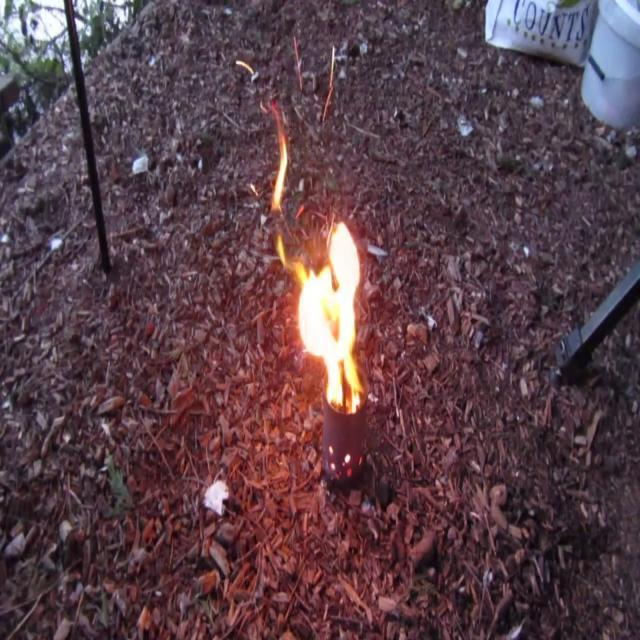Fire: (292, 217, 368, 407), (268, 133, 290, 211)
